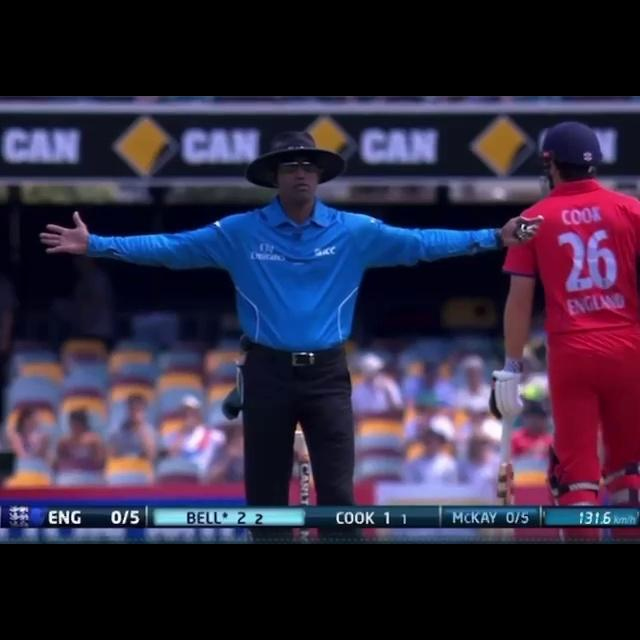umpire: (32, 136, 553, 493)
